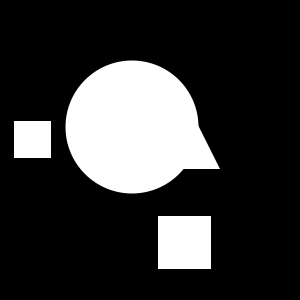circle: (158, 216, 211, 269), (14, 121, 51, 158)
rectangle: (66, 60, 198, 194)
triangle: (165, 114, 220, 169)
